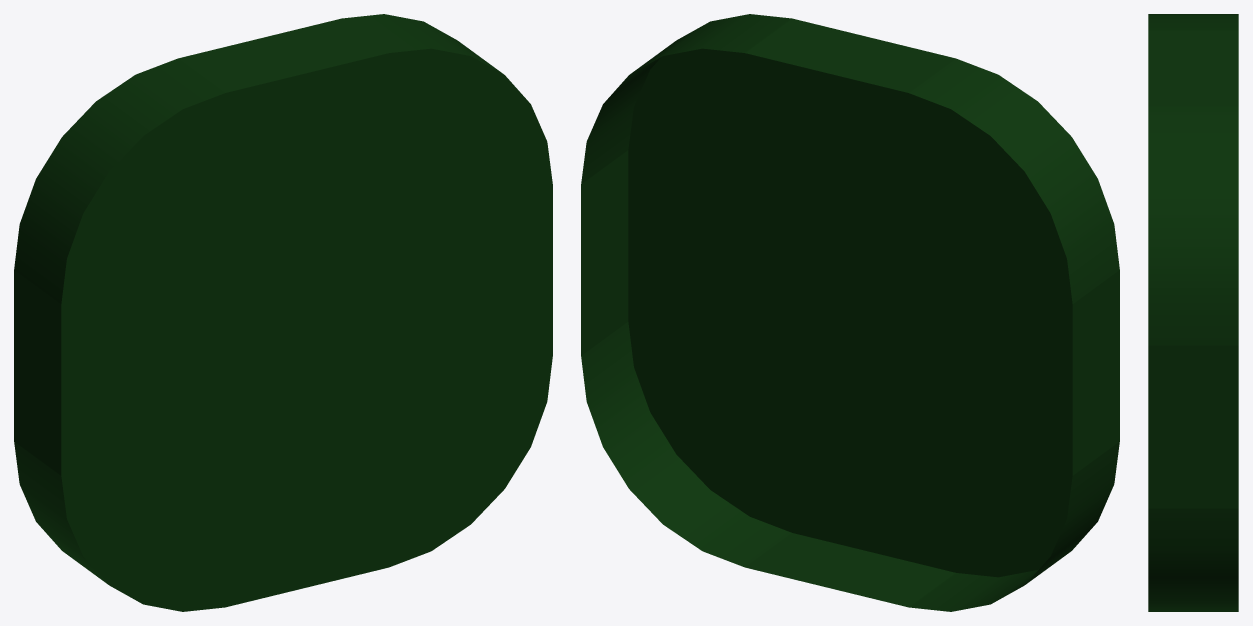
The model's file is original-29.obj.
3 views of the same model, side by side, from view 1: azimuth 30°, elevation 25°; view 2: azimuth 150°, elevation 25°; view 3: azimuth 270°, elevation 25° (orthographic). The views are drawn at different scales.
Parts seen in each view (by area): view 1: button11/button/mesh16/mesh16-geometry#mesh16-geometry; view 2: button11/button/mesh16/mesh16-geometry#mesh16-geometry; view 3: button11/button/mesh16/mesh16-geometry#mesh16-geometry.
Boxes of the visible parts, x1,y1,x2,y2 form: button11/button/mesh16/mesh16-geometry#mesh16-geometry: (14,14,552,611); button11/button/mesh16/mesh16-geometry#mesh16-geometry: (581,14,1119,611); button11/button/mesh16/mesh16-geometry#mesh16-geometry: (1148,14,1238,611).
Size of the model in its own units: 0.0476 by 0.0476 by 0.00793.
